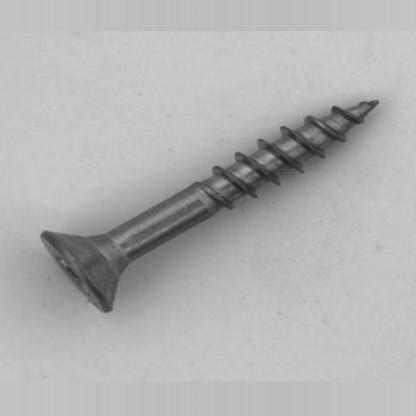metal: (39, 98, 379, 312)
